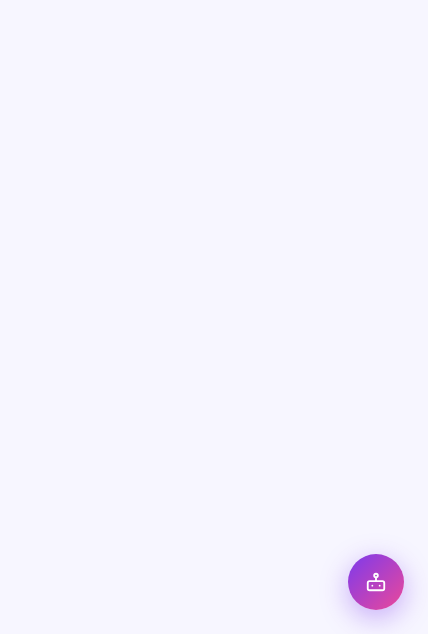
a friendly rate-limit reply from the server is shown as-is
Click the button with class "cw-fab": (376, 582) [348,554,404,610]
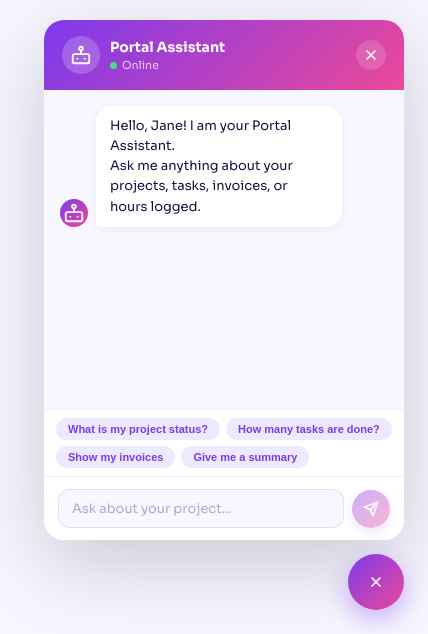
In the text box with placeholder "Ask about your project...": (201, 508) [58,489,344,528], type "one more"
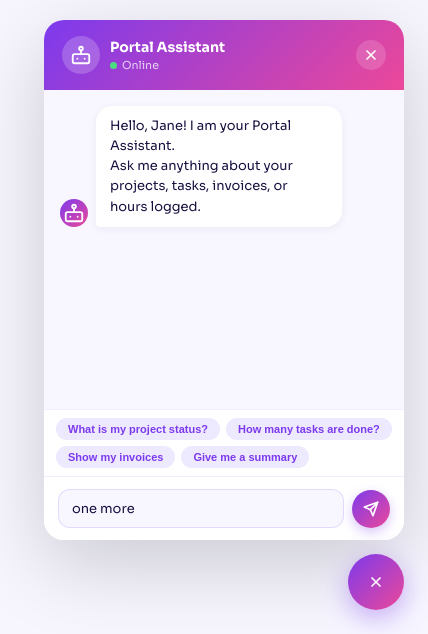
Click the button with class "cw-send-btn": (371, 509) [352,490,390,528]
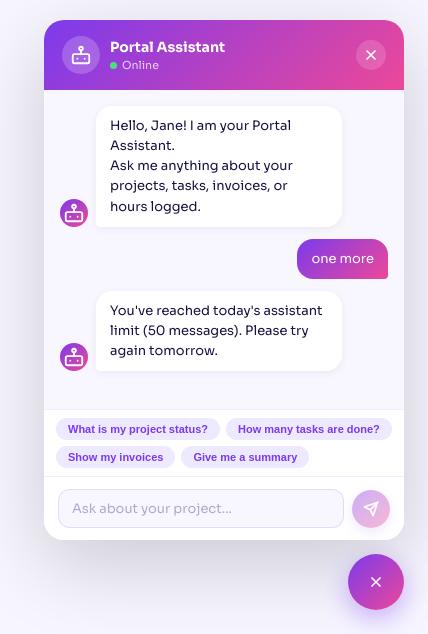
Expected: the text "You've reached today's assistant limit (50 messages). Please try again tomorrow." is shown, [110,301,328,361]
